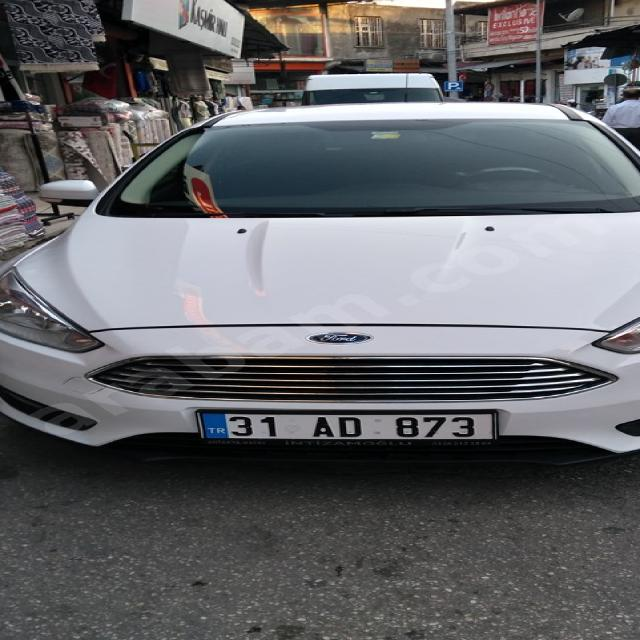license_plate: (197, 412, 495, 439)
